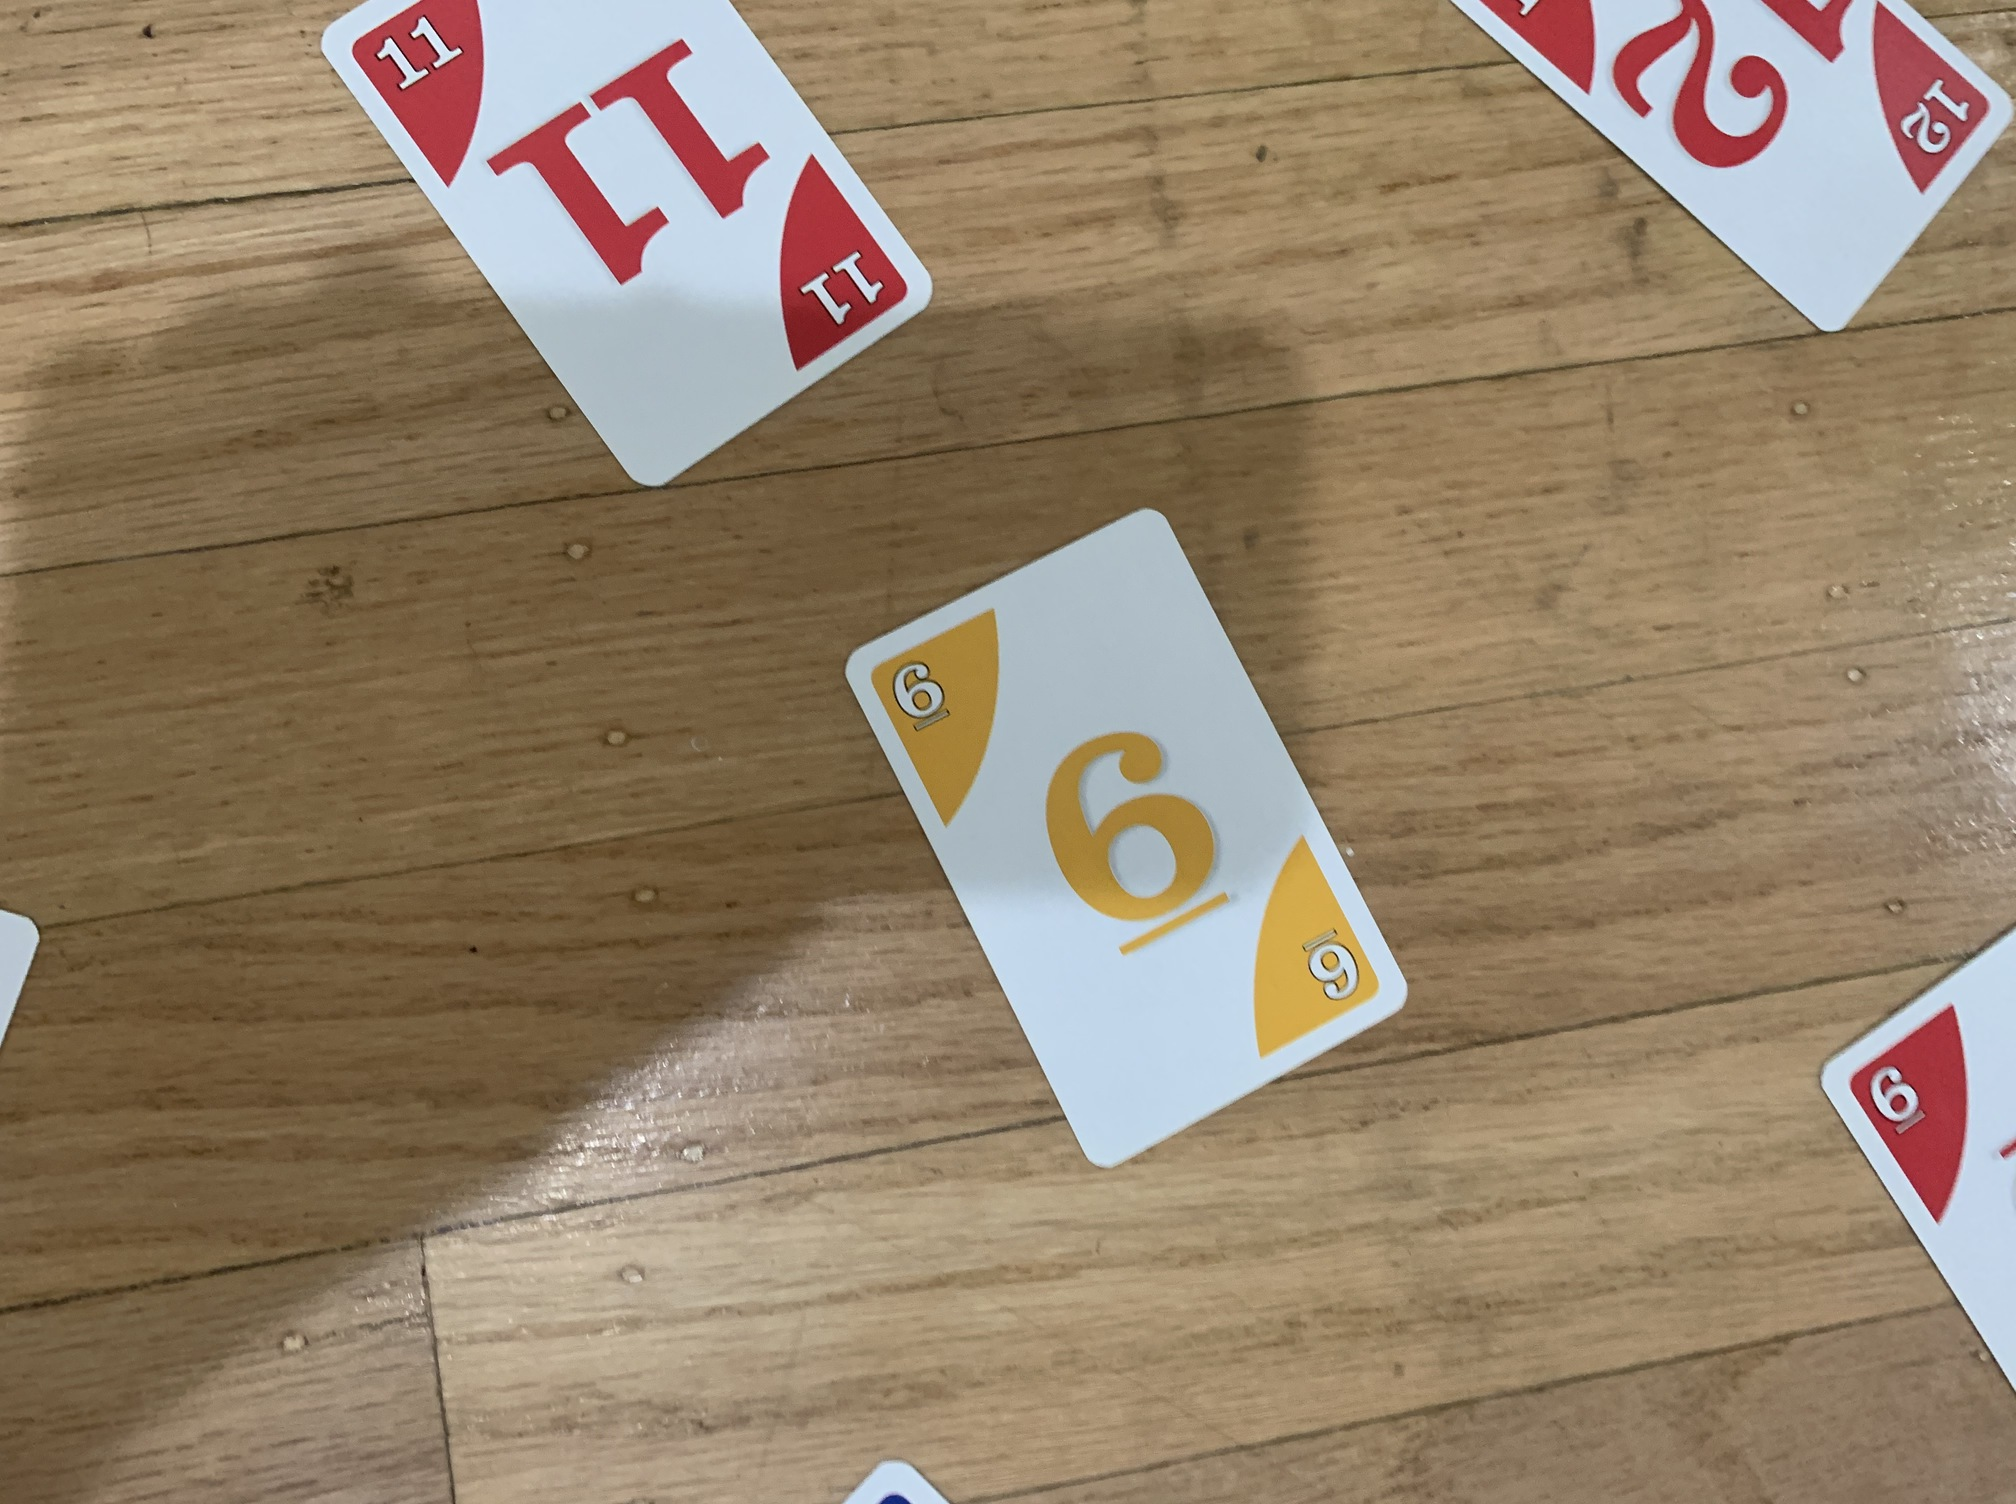eleven: (310, 2, 950, 496)
six: (825, 496, 1416, 1179)
